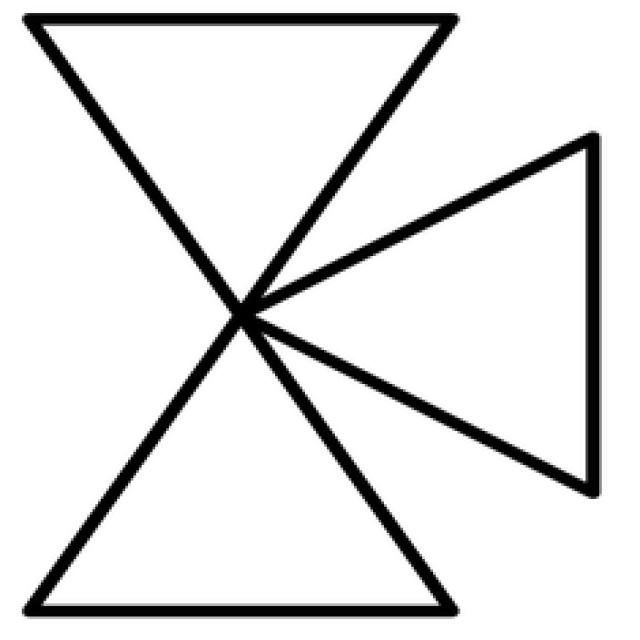3-way Valve: (28, 16, 594, 613)
